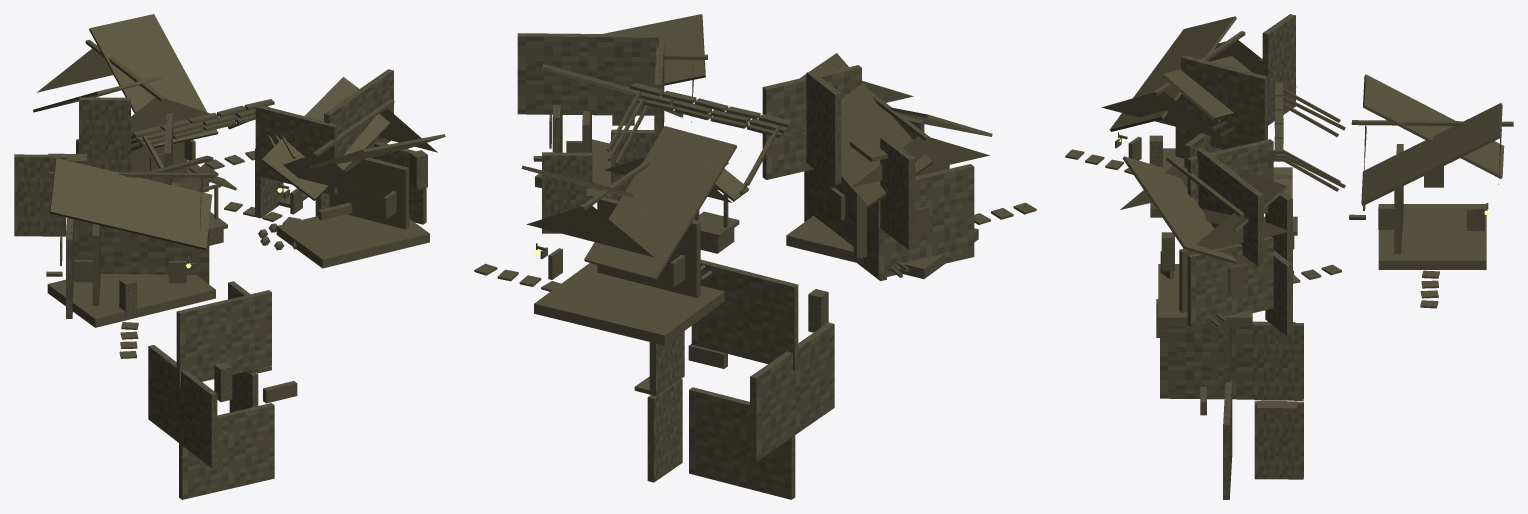
The model's file is work_1661_hamlet.glb.
The picture shows the model from 3 angles, left to right: view 1: azimuth 30°, elevation 25°; view 2: azimuth 150°, elevation 25°; view 3: azimuth 270°, elevation 25°; orthographic projection. The views are drawn at different scales.
Visible parts, largest first — view 1: /_l$/_1, /_l$/_0, /_l$/_2; view 2: /_l$/_1, /_l$/_0, /_l$/_2; view 3: /_l$/_1, /_l$/_0, /_l$/_2.
Boxes of the visible parts, bbox=[...] form: /_l$/_1: bbox=[14, 69, 427, 499]; /_l$/_0: bbox=[33, 14, 445, 373]; /_l$/_2: bbox=[37, 48, 437, 403]; /_l$/_1: bbox=[517, 33, 974, 499]; /_l$/_0: bbox=[474, 14, 1036, 394]; /_l$/_2: bbox=[526, 60, 989, 368]; /_l$/_1: bbox=[1149, 14, 1365, 499]; /_l$/_0: bbox=[1065, 16, 1513, 411]; /_l$/_2: bbox=[1101, 40, 1501, 415].
Size of the model in its own units: 14.01 by 13.36 by 13.43.
Materials: 4 (3 with a texture image).
